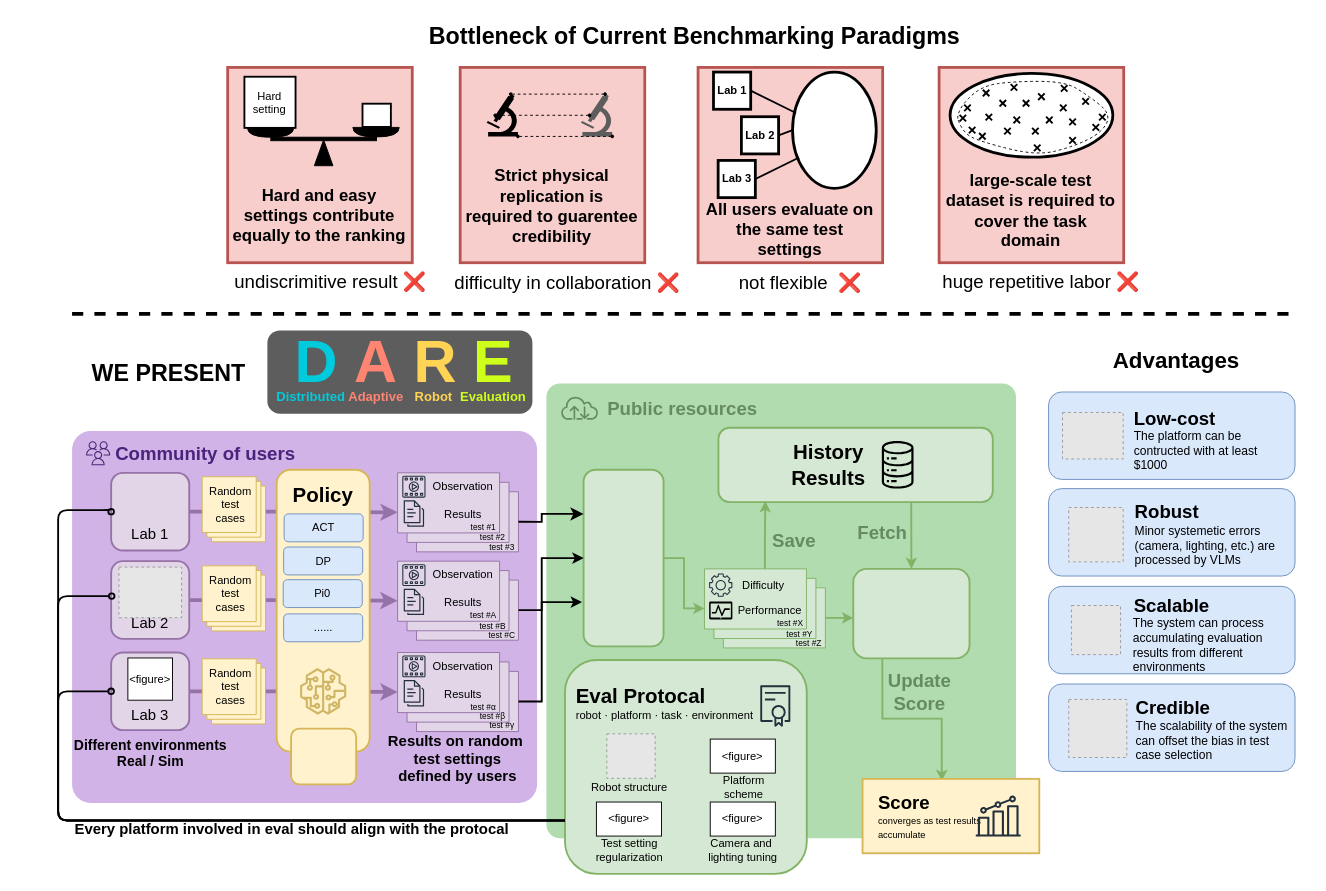
This 1326x891 diagram has some shape labels left out. Grey dashed boxes stand in for pictures. The centre of each missing label's shape, as x and y in pixels:
Easy setting: pixel 376 114
Grading Algorithm: pixel 911 613
Task: pixel 323 756
Test Settings: pixel 834 129
VLM: pixel 623 557
